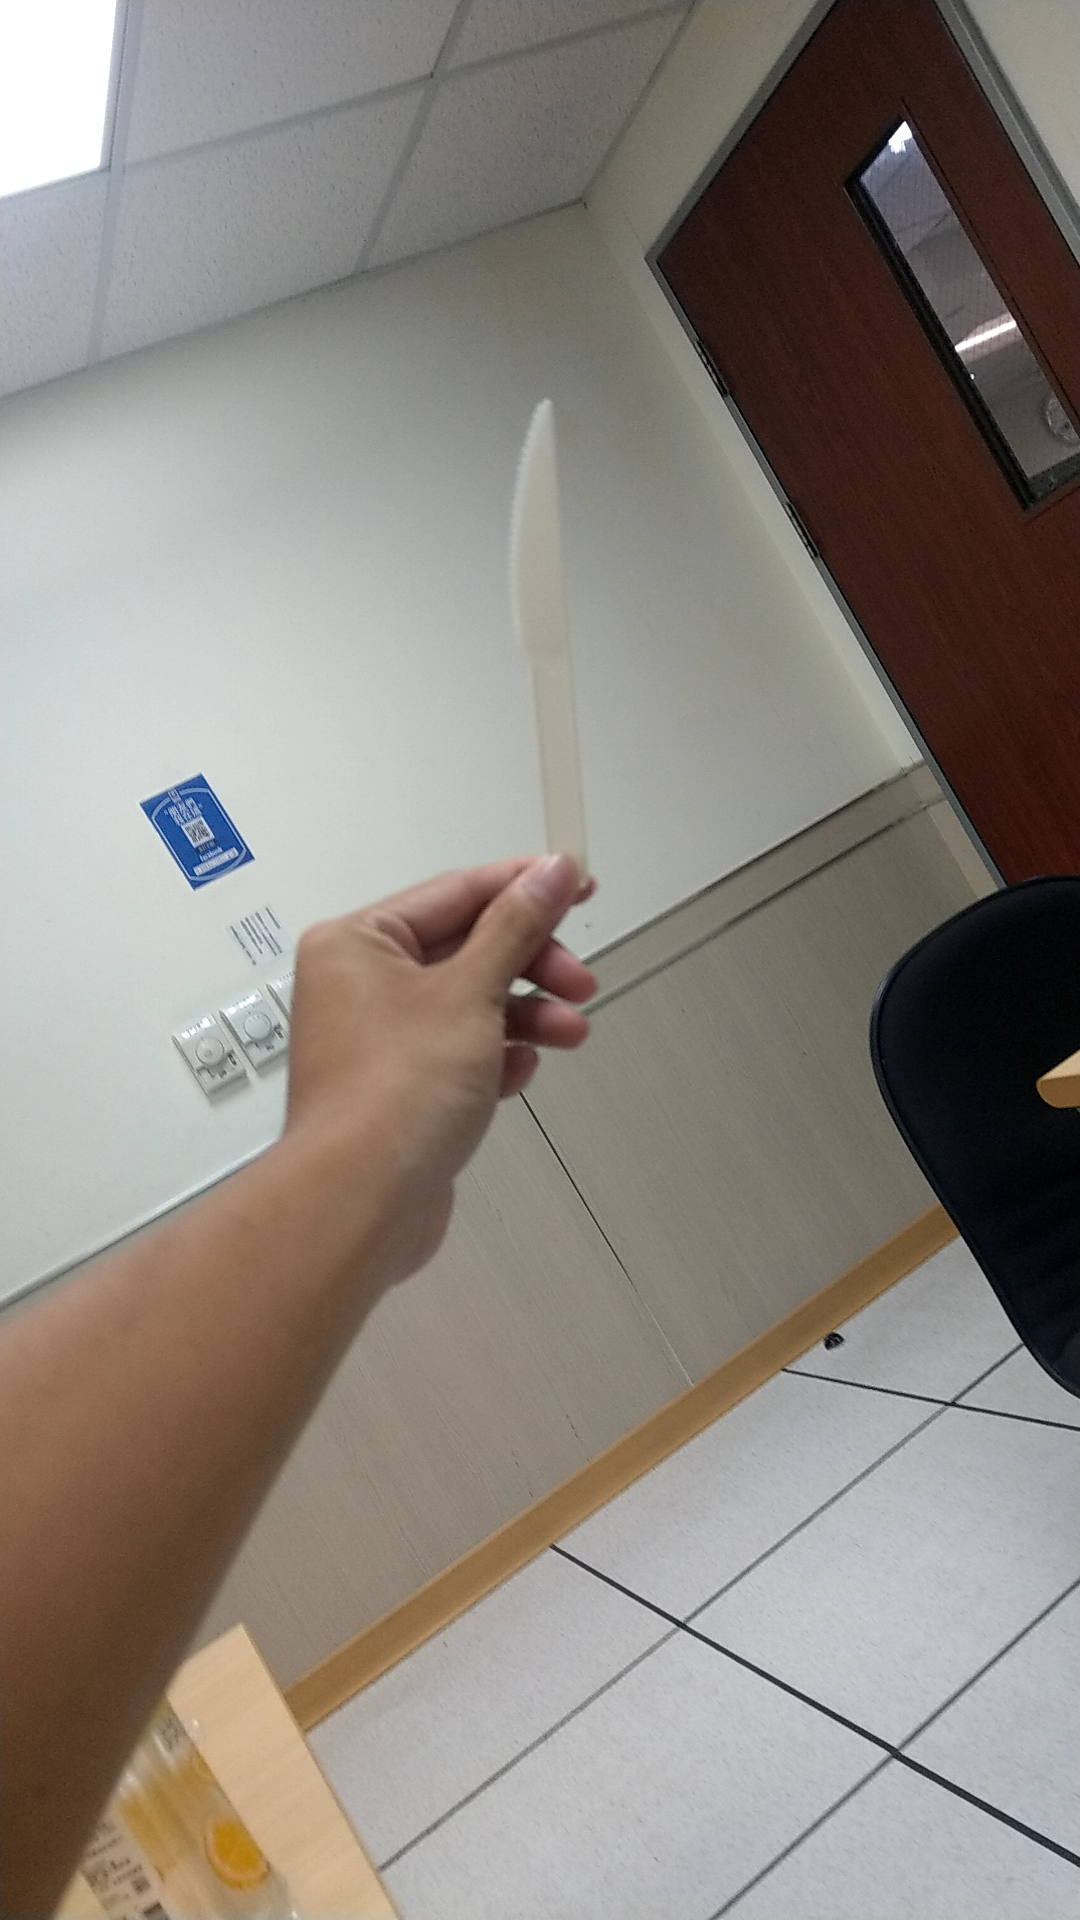knife: (472, 378, 633, 864)
